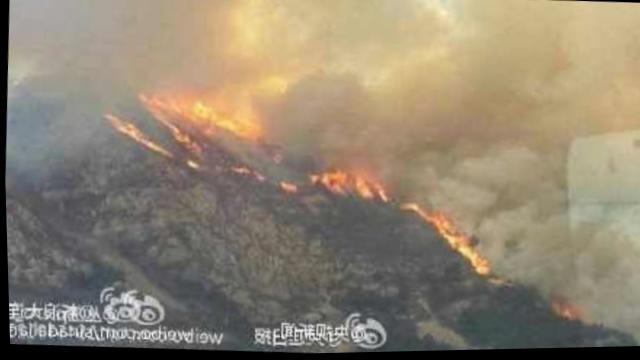fire: (192, 89, 259, 135), (149, 85, 196, 113), (317, 170, 347, 192), (471, 256, 490, 277), (451, 235, 470, 255), (351, 176, 373, 193), (432, 216, 450, 235)
